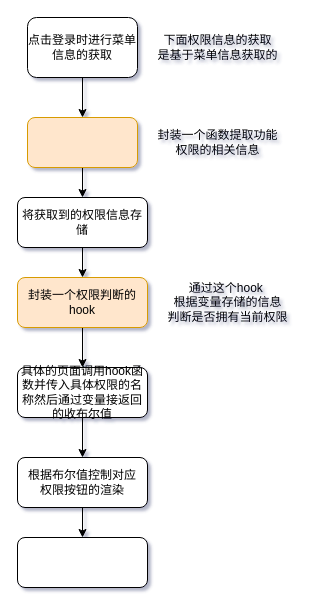
Image size: 321x611. Some labels were removed from this diagram. The centre of each missing label's shape, as x and y in pixels:
"end" belongs at pixel 82 562.
"利用函数提取功能权限的信息" belongs at pixel 82 142.
